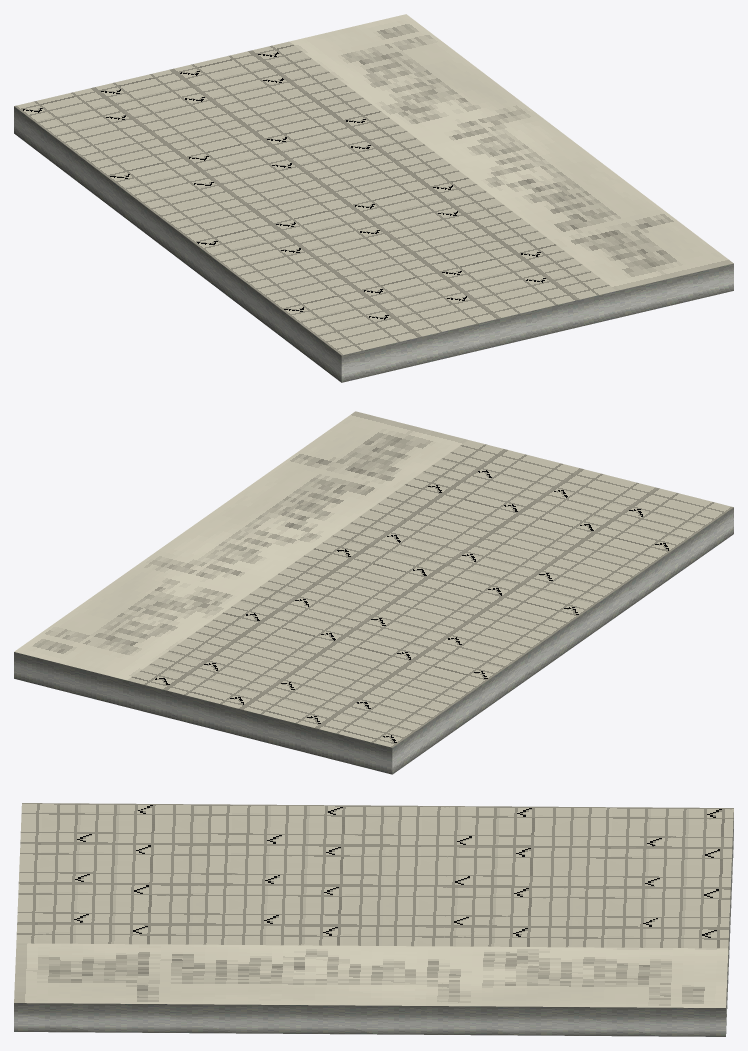
The model's file is primary_041.glb.
3 views of the same model, one above another, from view 1: azimuth 30°, elevation 25°; view 2: azimuth 150°, elevation 25°; view 3: azimuth 270°, elevation 25° (orthographic). The views are drawn at different scales.
Parts seen in each view (by area): view 1: Object; view 2: Object; view 3: Object.
Part boxes in pixels (left/top/right/bottom): Object: left=14, top=14, right=733, bottom=382; Object: left=14, top=411, right=733, bottom=774; Object: left=14, top=803, right=733, bottom=1036.
Bounding box in the file's own units: 0.3579 × 0.0235 × 0.5309.
4 materials, 4 textured.
